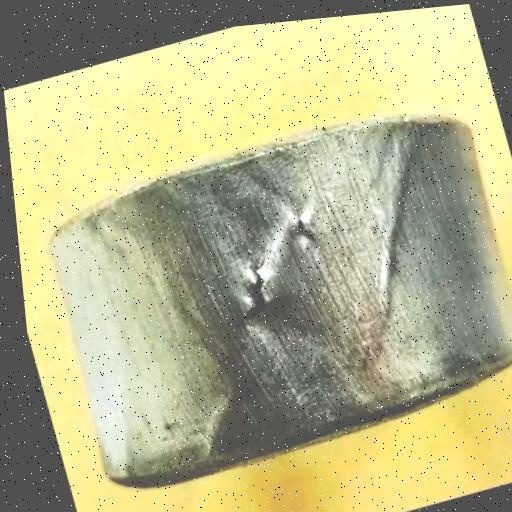crack: (228, 253, 301, 330), (282, 199, 323, 247)
